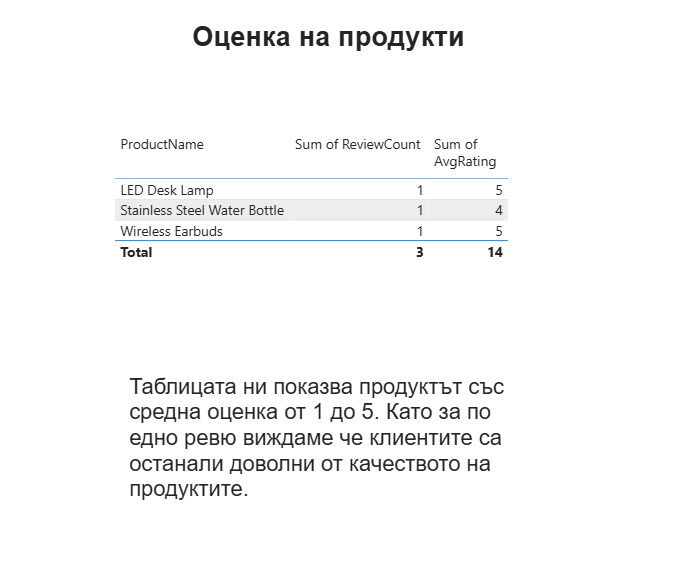

This screenshot's page, from the dashboard's own definition file:
{"tool":"powerbi","page":{"name":"Страница 4","canvas":[1280,720],"ordinal":3},"visuals":[{"type":"tableEx","fields":{"Values":["V_AvgRatingByProduct.ProductName","Sum(V_AvgRatingByProduct.ReviewCount)","Sum(V_AvgRatingByProduct.AvgRating)"]},"box":[419.2,208.1,399.8,151.7],"z":0},{"type":"textbox","box":[495.1,99.2,288.9,42.8],"z":1},{"type":"textbox","box":[433.8,442.6,385.2,148.8],"z":2}]}

Visuals, with their boxes on the page's 1280x720 design canvas (x1, y1, x2, y2). These are canvas units, not pixel positions in the 679x573 screenshot, which may show the page scaled, cropped or inside an application window:
tableEx - V_AvgRatingByProduct.ProductName x Sum(V_AvgRatingByProduct.ReviewCount): x1=419 y1=208 x2=819 y2=360
textbox: x1=495 y1=99 x2=784 y2=142
textbox: x1=434 y1=443 x2=819 y2=591
